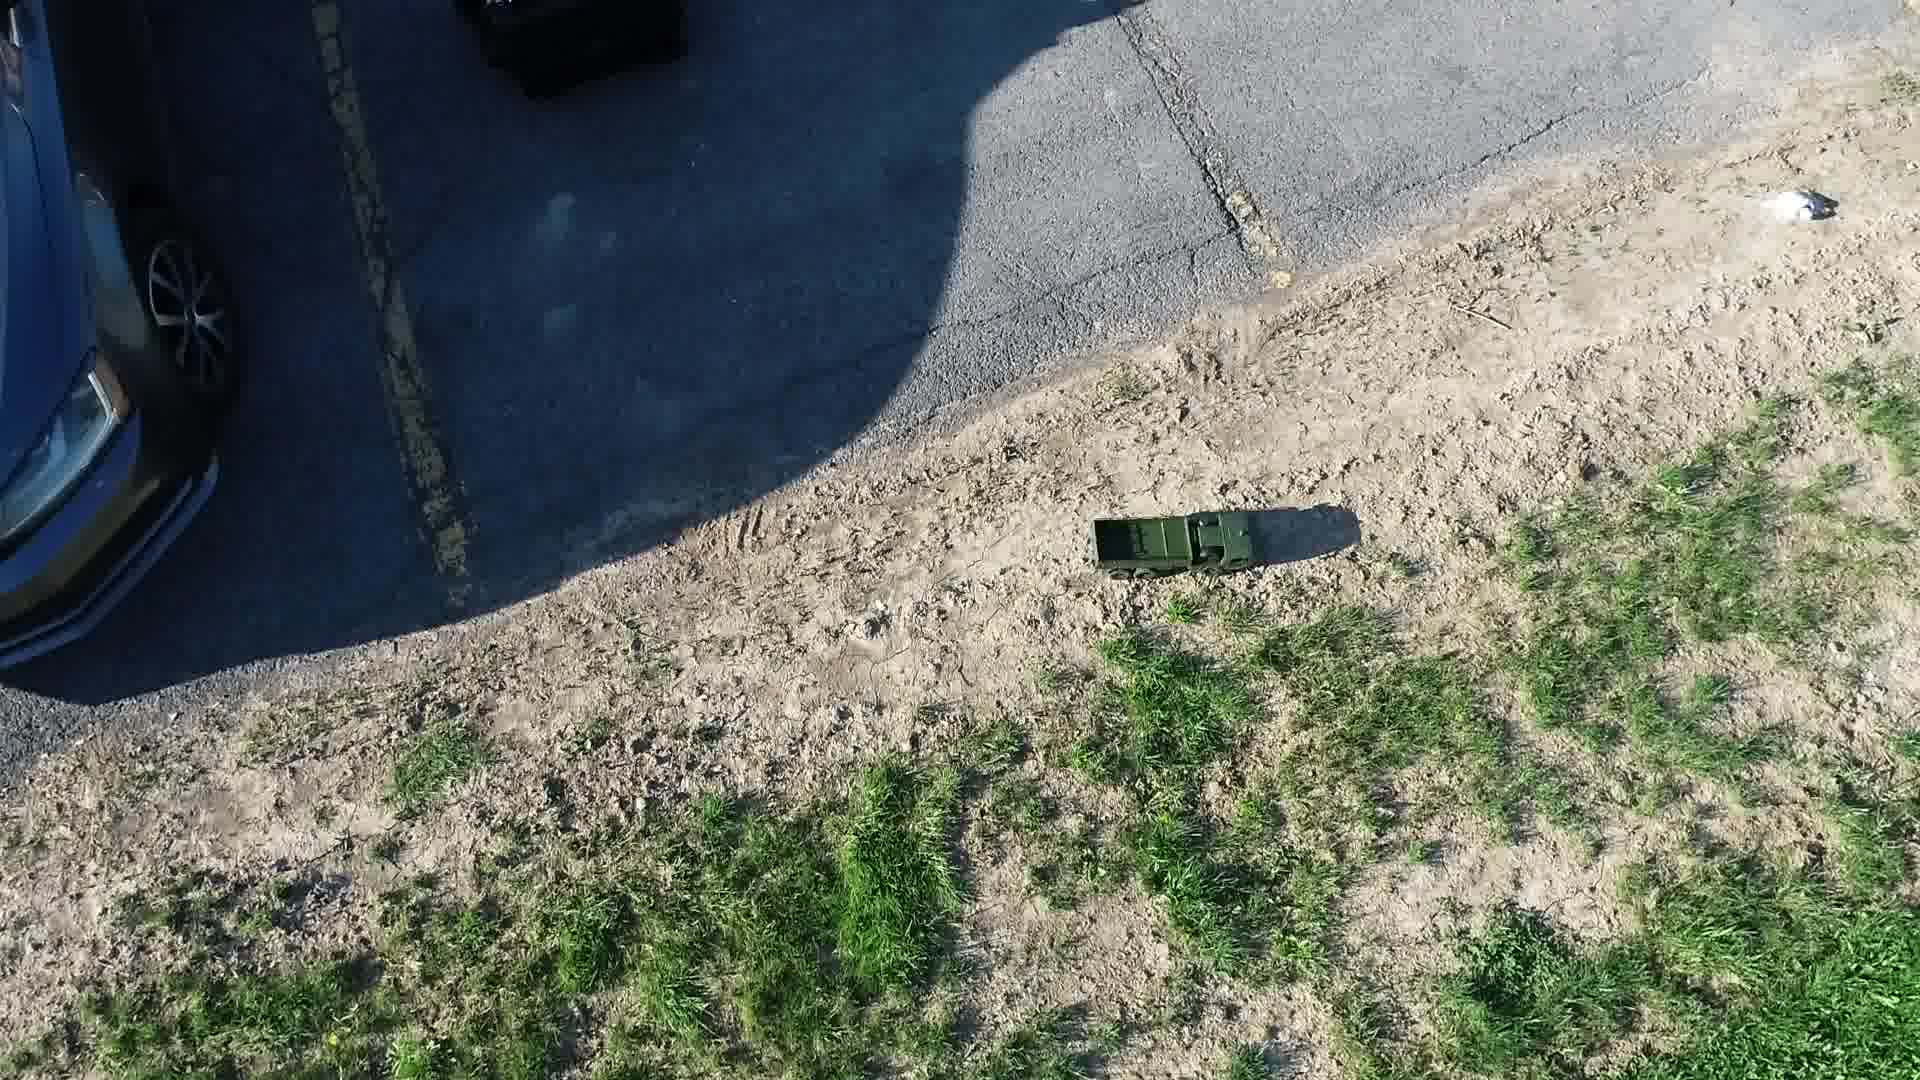transporter9: (1085, 497, 1265, 585)
